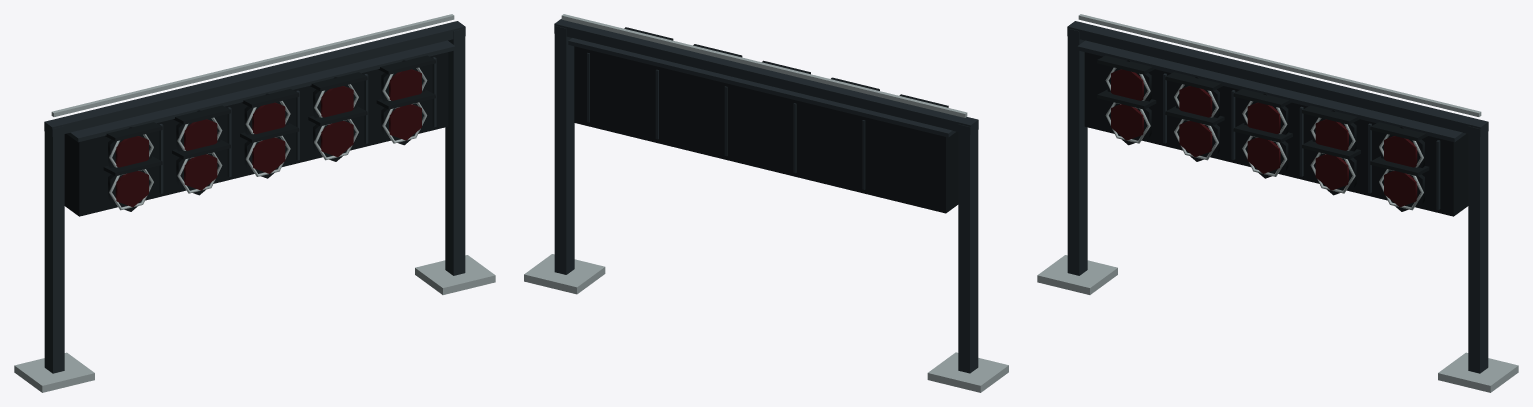
File: race-start-lights-lod3.glb
The picture shows the model from 3 angles, left to right: view 1: azimuth 30°, elevation 25°; view 2: azimuth 150°, elevation 25°; view 3: azimuth 330°, elevation 25°; orthographic projection.
Parts seen in each view (by area): view 1: housing__Moulded_carbon_housing, frame__Powder-coated_graphite_frame, frame__Brushed_aluminium, housing__Powder-coated_graphite_frame, hardware__Brushed_aluminium, StartLight_02_Top, StartLight_03_Top, StartLight_01_Top, StartLight_04_Top, StartLight_05_Top, StartLight_02_Bottom, StartLight_03_Bottom (+3 smaller); view 2: housing__Moulded_carbon_housing, frame__Powder-coated_graphite_frame, frame__Brushed_aluminium, housing__Powder-coated_graphite_frame; view 3: housing__Moulded_carbon_housing, frame__Powder-coated_graphite_frame, frame__Brushed_aluminium, housing__Powder-coated_graphite_frame, hardware__Brushed_aluminium, StartLight_04_Top, StartLight_03_Top, StartLight_05_Top, StartLight_02_Top, StartLight_01_Top, StartLight_04_Bottom, StartLight_02_Bottom (+3 smaller).
Boxes of the visible parts, box(x1,y1,x2,y2) form: housing__Moulded_carbon_housing: box(64, 52, 448, 216); frame__Powder-coated_graphite_frame: box(44, 21, 465, 373); frame__Brushed_aluminium: box(14, 14, 495, 392); housing__Powder-coated_graphite_frame: box(67, 40, 455, 193); hardware__Brushed_aluminium: box(109, 67, 427, 210); StartLight_02_Top: box(184, 154, 217, 190); StartLight_03_Top: box(252, 137, 285, 173); StartLight_01_Top: box(115, 171, 148, 207); StartLight_04_Top: box(320, 121, 353, 157); StartLight_05_Top: box(389, 104, 421, 140); StartLight_02_Bottom: box(184, 119, 217, 150); StartLight_03_Bottom: box(252, 102, 285, 133); housing__Moulded_carbon_housing: box(574, 27, 958, 213); frame__Powder-coated_graphite_frame: box(554, 19, 978, 373); frame__Brushed_aluminium: box(524, 14, 1008, 392); housing__Powder-coated_graphite_frame: box(568, 38, 955, 189); housing__Moulded_carbon_housing: box(1084, 52, 1468, 216); frame__Powder-coated_graphite_frame: box(1067, 21, 1488, 373); frame__Brushed_aluminium: box(1037, 14, 1518, 392); housing__Powder-coated_graphite_frame: box(1077, 40, 1465, 209); hardware__Brushed_aluminium: box(1105, 67, 1423, 210); StartLight_04_Top: box(1315, 154, 1348, 190); StartLight_03_Top: box(1247, 137, 1280, 173); StartLight_05_Top: box(1384, 171, 1417, 207); StartLight_02_Top: box(1179, 121, 1212, 157); StartLight_01_Top: box(1111, 104, 1143, 140); StartLight_04_Bottom: box(1315, 119, 1348, 155); StartLight_02_Bottom: box(1179, 86, 1212, 122).
Size of the model in its own units: 10.75 by 5.97 by 1.43.
